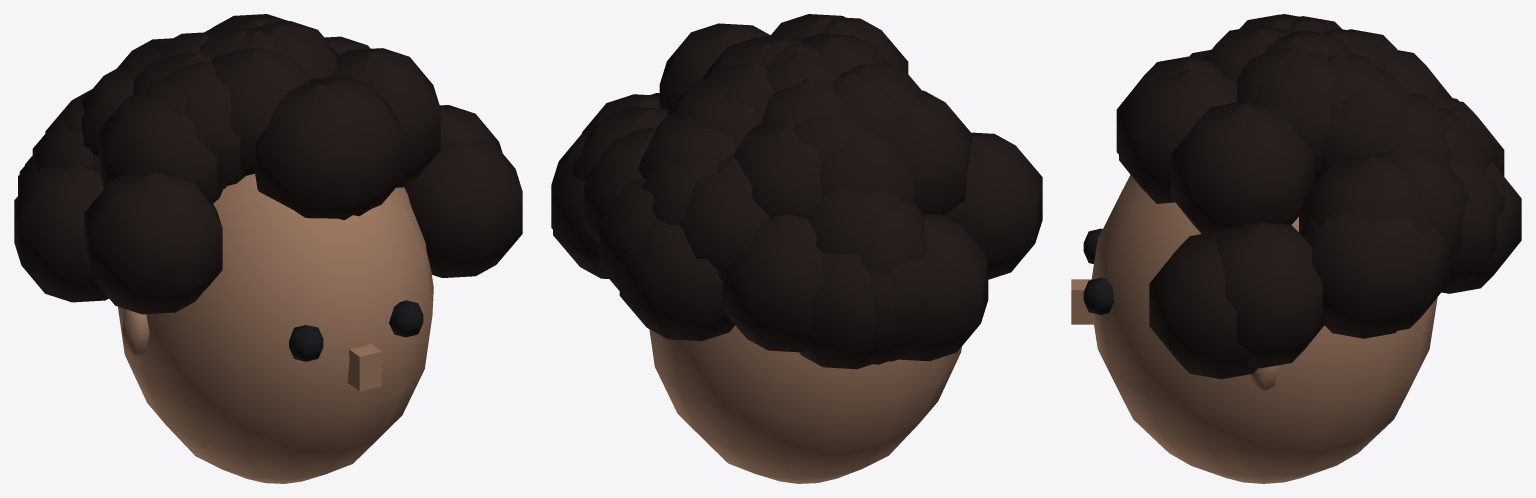
Rendered from head.obj.
3 views of the same model, side by side, from view 1: azimuth 30°, elevation 25°; view 2: azimuth 150°, elevation 25°; view 3: azimuth 270°, elevation 25° (orthographic). The views are drawn at different scales.
Visible parts, largest first — view 1: head; view 2: head; view 3: head.
Boxes of the visible parts, bbox=[...] form: head: bbox=[14, 14, 522, 483]; head: bbox=[551, 14, 1042, 483]; head: bbox=[1071, 14, 1521, 483].
Size of the model in its own units: 0.2711 by 0.2553 by 0.2414.
